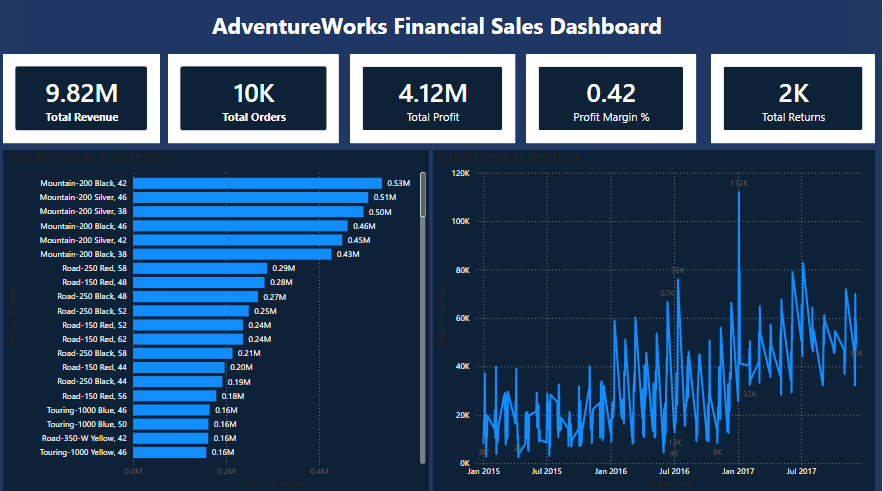

The dashboard page shown, as its layout file describes it:
{"tool":"powerbi","page":{"name":"Executive Summary","canvas":[1280,720],"ordinal":0},"visuals":[{"type":"cardVisual","fields":{"Data":["Measures (5).Total Revenue"]},"box":[10.1,85.3,227,128.7],"z":0},{"type":"cardVisual","fields":{"Data":["Measures (5).Total Orders"]},"box":[248.7,85.3,247.2,128.7],"z":1000},{"type":"cardVisual","fields":{"Data":["Measures (5).Total Profit"]},"box":[511.8,85.3,238.6,128.7],"z":2000},{"type":"cardVisual","fields":{"Data":["Measures (5).Profit Margin %"]},"box":[766.3,85.3,245.8,128.7],"z":3000},{"type":"cardVisual","fields":{"Data":["Measures (5).Total Returns"]},"box":[1033.7,85.3,237.1,128.7],"z":4000},{"type":"clusteredBarChart","fields":{"Y":["Measures (5).Total Revenue"],"Category":["AdventureWorks_Products.ProductName"]},"box":[10.1,224.1,615.9,495.9],"z":5000},{"type":"lineChart","fields":{"Y":["Measures (5).Total Revenue"],"Category":["AdventureWork_Sales.OrderDate"]},"box":[631.8,224.1,639,495.9],"z":6000},{"type":"textbox","box":[41.9,0,1191.3,85.3],"z":6001}]}

Visuals, with their boxes in screenshot pixels (x1, y1, x2, y2), scaled from the page's 1280x720 canvas onto the 883x491 screenshot:
cardVisual - Measures (5).Total Revenue: 7, 58, 164, 146
cardVisual - Measures (5).Total Orders: 172, 58, 342, 146
cardVisual - Measures (5).Total Profit: 353, 58, 518, 146
cardVisual - Measures (5).Profit Margin %: 529, 58, 698, 146
cardVisual - Measures (5).Total Returns: 713, 58, 877, 146
clusteredBarChart - Measures (5).Total Revenue x AdventureWorks_Products.ProductName: 7, 153, 432, 490
lineChart - Measures (5).Total Revenue x AdventureWork_Sales.OrderDate: 436, 153, 877, 490
textbox: 29, 0, 851, 58
